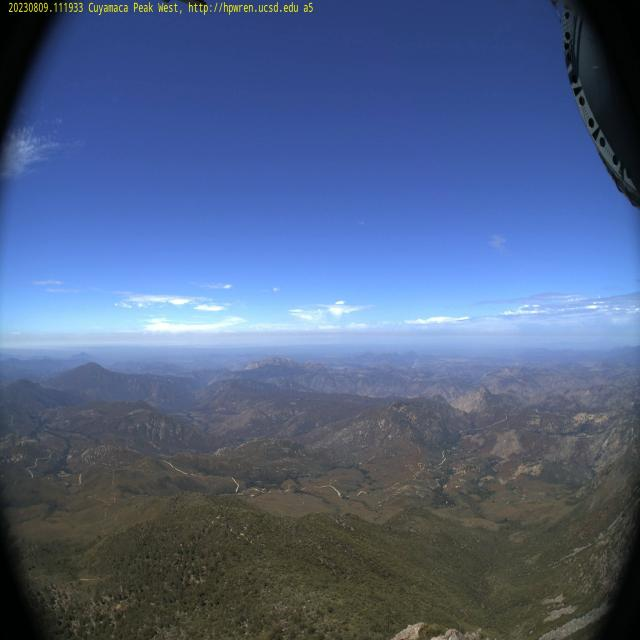smoke: (411, 353, 424, 370)
